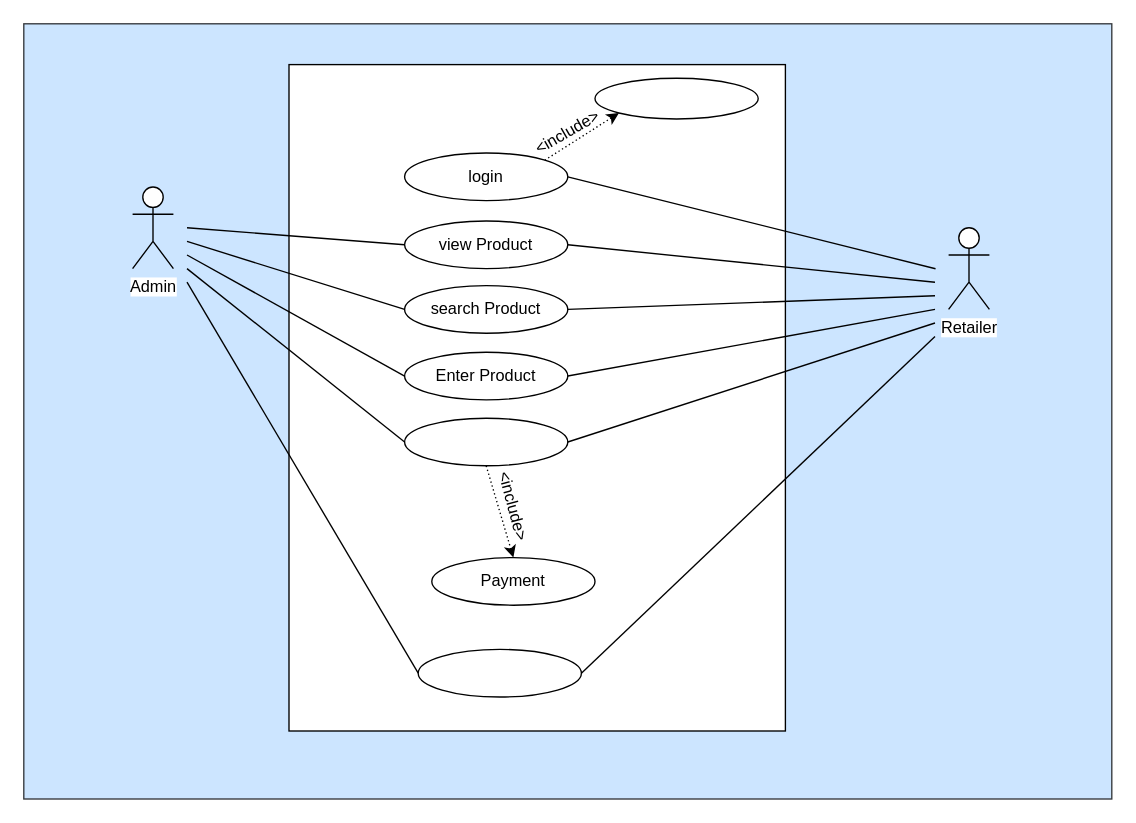
This 1136x823 diagram has some shape labels left out. The box of each missing label's shape, as (x1, y1, x2, y2) in pixels:
Generate Bill: (403, 417, 568, 466)
Register: (594, 77, 758, 119)
Store Bill Details: (417, 648, 581, 697)
